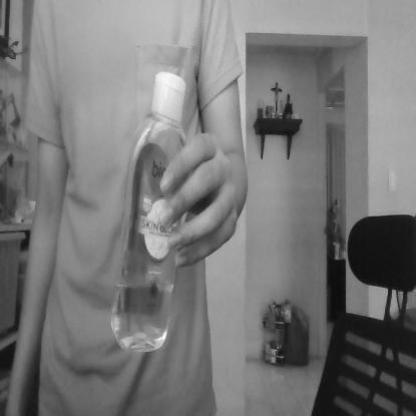Plastic Bottle: (111, 61, 188, 358)
